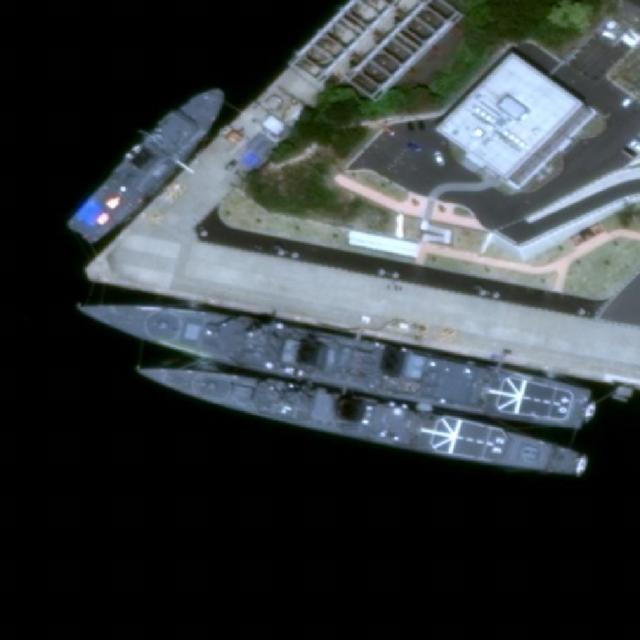Destroyer: (71, 288, 594, 431), (132, 352, 590, 484)
Other Warship: (65, 70, 238, 251)
